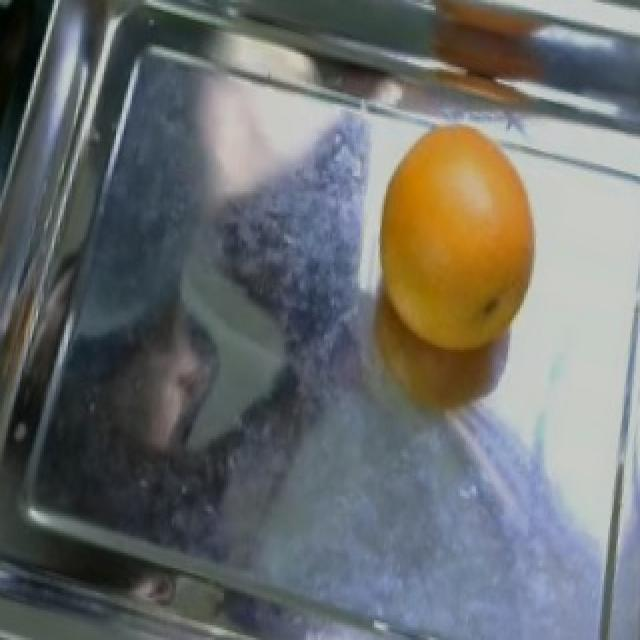Fruit: (354, 112, 548, 429)
